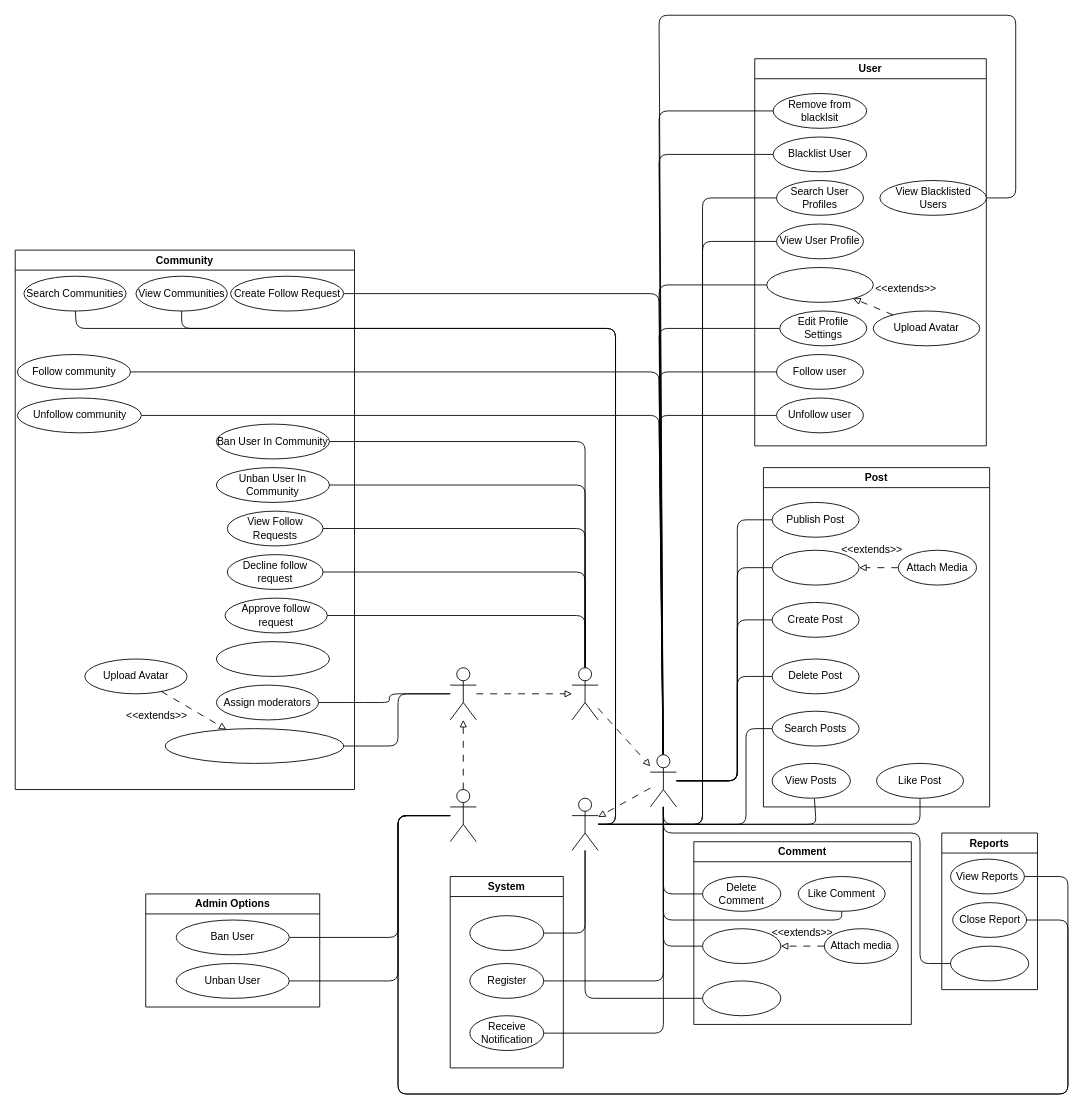
Image size: 1084x1110. Some labels were removed from this diagram. Here are the shapes that lost their labels. From the top down, the centre of each, then its label:
At point 819,284: "Edit Profile Information".
At point 815,567: "Edit Post".
At point 272,658: "Delete Community".
At point 462,693: "Community owner".
At point 584,693: "Community moderator".
At point 254,745: "Edit information about community".
At point 662,780: "Authorized user".
At point 462,815: "Administrator".
At point 584,823: "Anonymous user".
At point 506,932: "Login".
At point 741,946: "Create Comment".
At point 989,963: "Create report".
At point 741,998: "View Comments".
